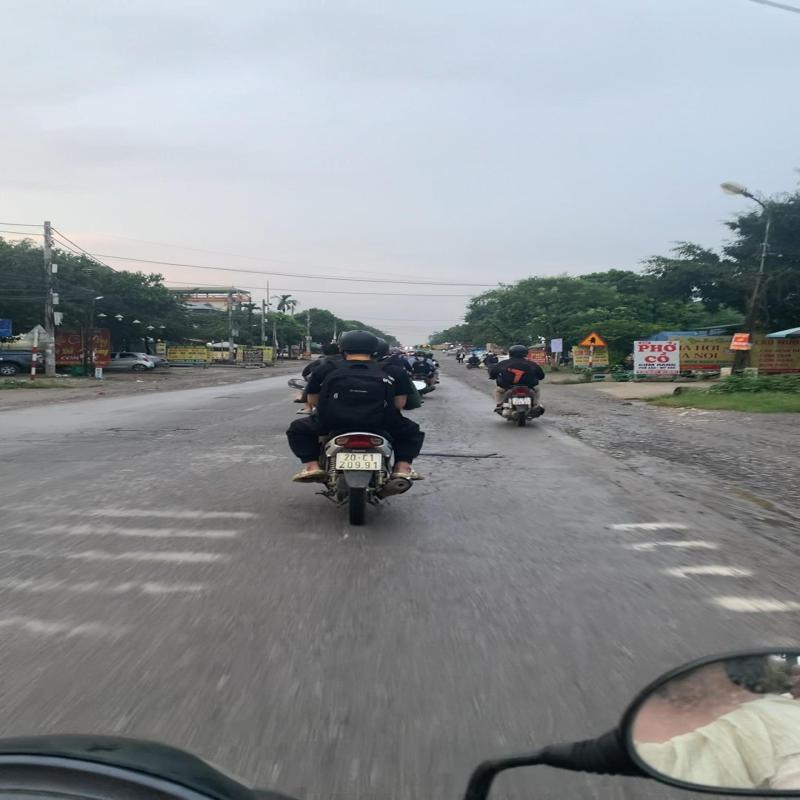helmet: (336, 329, 382, 360)
licenseplate: (334, 450, 386, 472)
motorcyclist: (286, 332, 432, 534)
